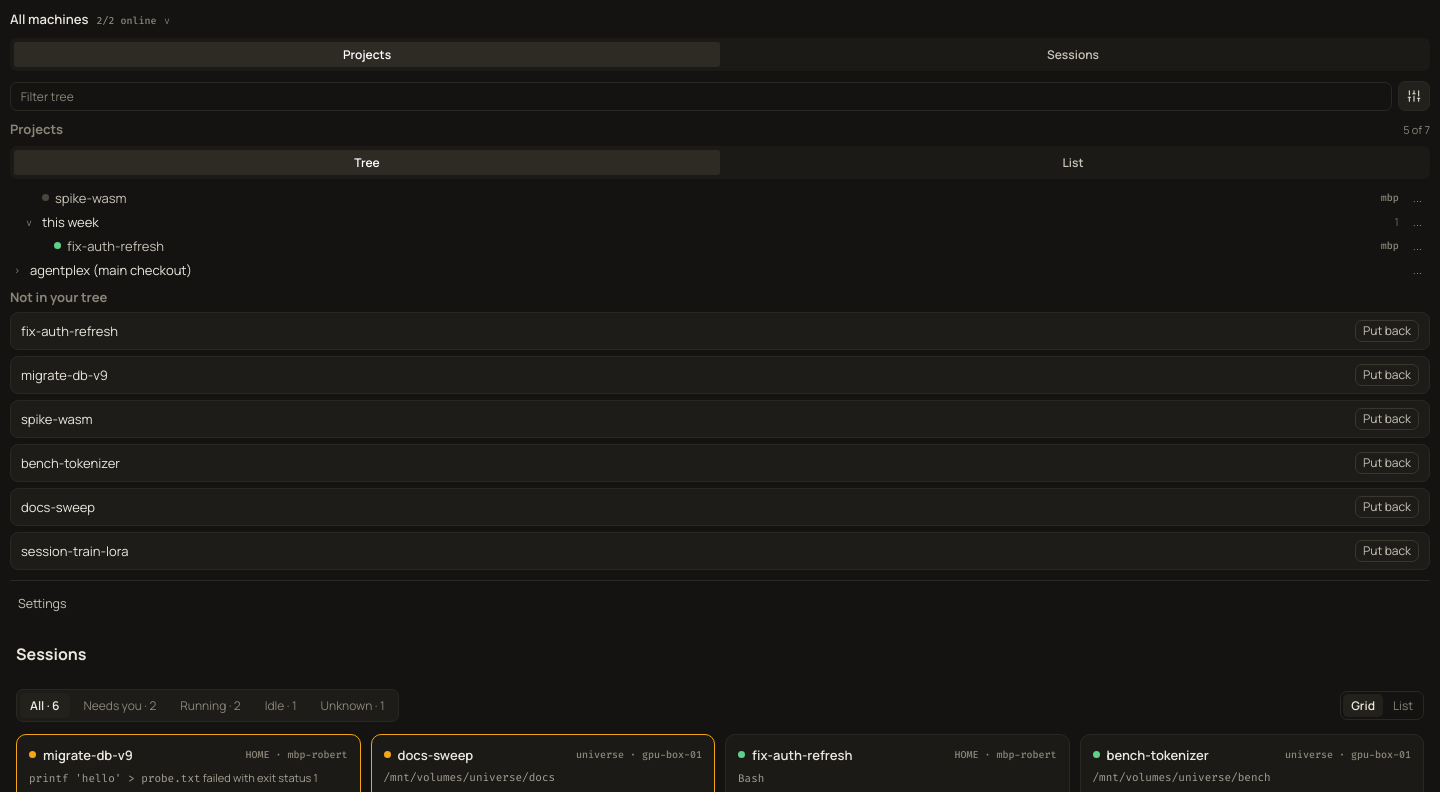
Scenario: the sidebar filter row, mounted › measures both readings against the one clock it was handed
Click the radio button labelled "Sessions".
click(1073, 54)  # box [1047,46,1099,63]
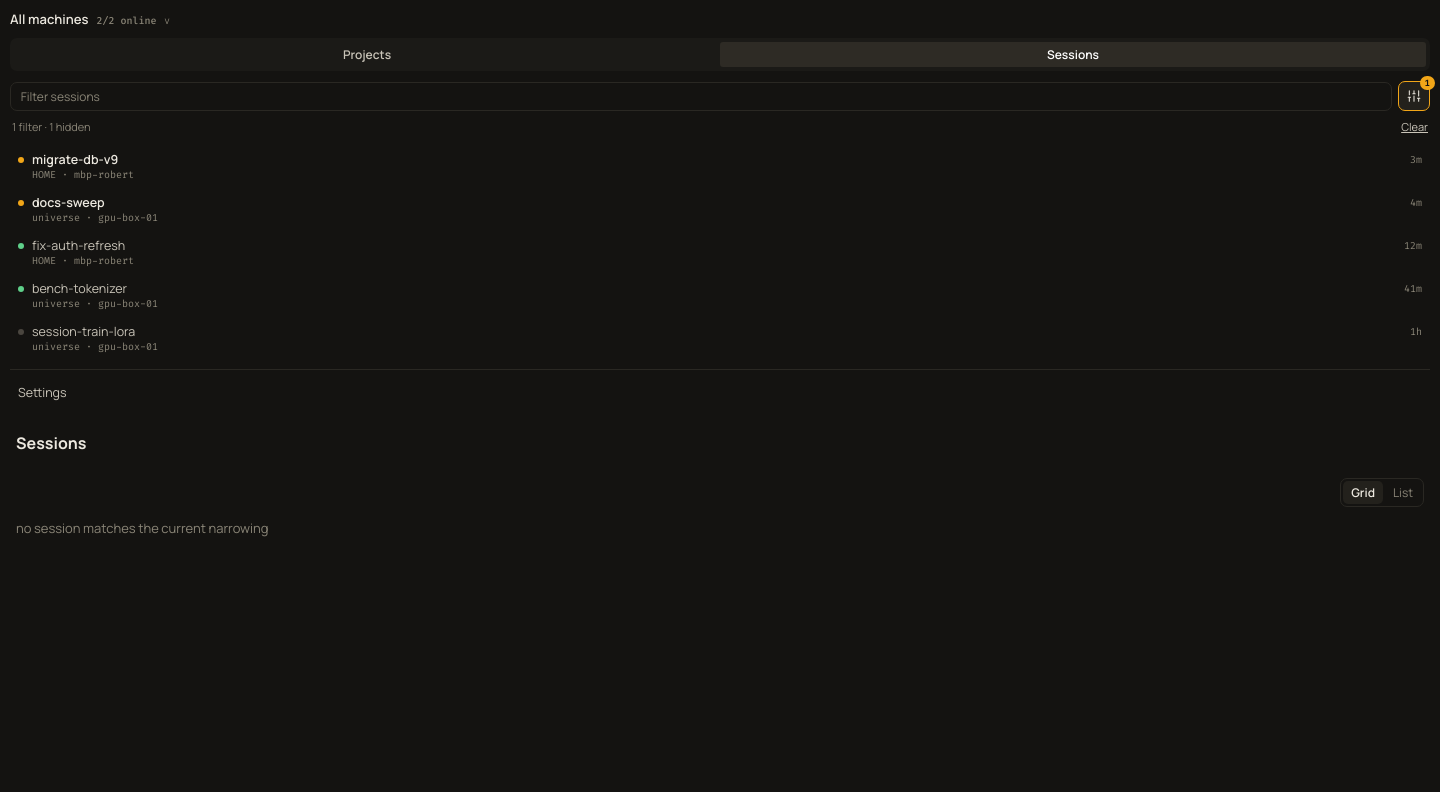
Expected: the text "1 filter · 1 hidden" is shown, [12,118,91,134]
